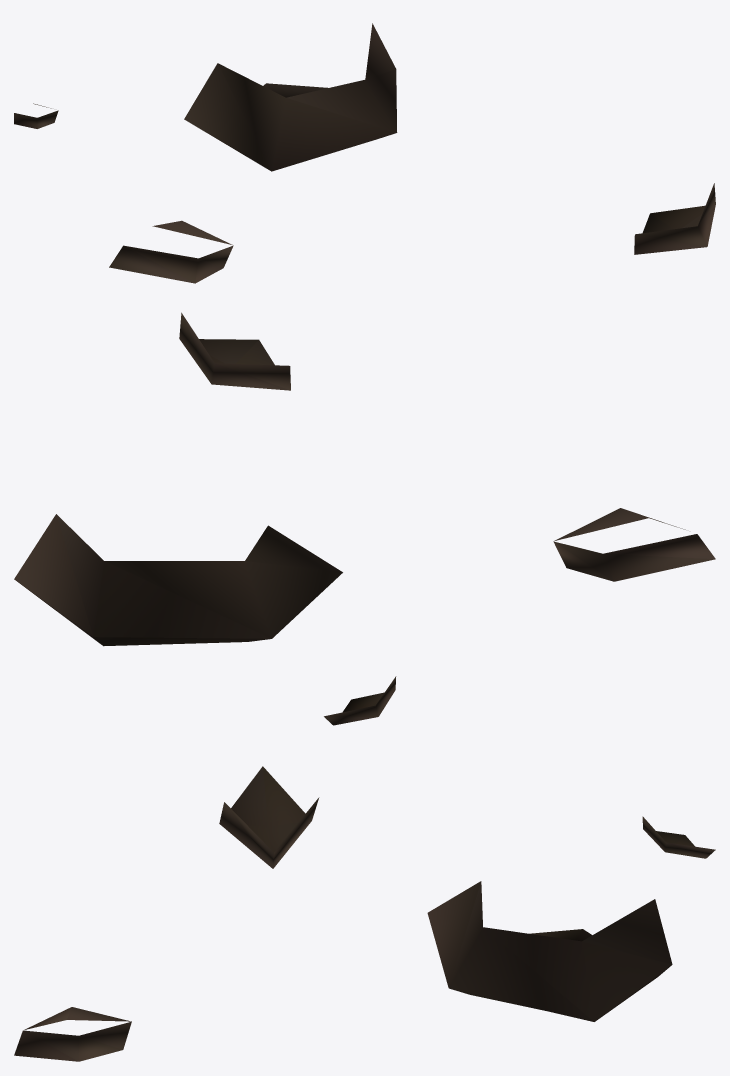
File: rubble_v1.glb
3 renders of one model, top to bottom at view 1: azimuth 30°, elevation 25°; view 2: azimuth 150°, elevation 25°; view 3: azimuth 270°, elevation 25°, orthographic. The views are drawn at different scales.
Bounding box in the file's own units: 0.976 × 0.1545 × 1.
